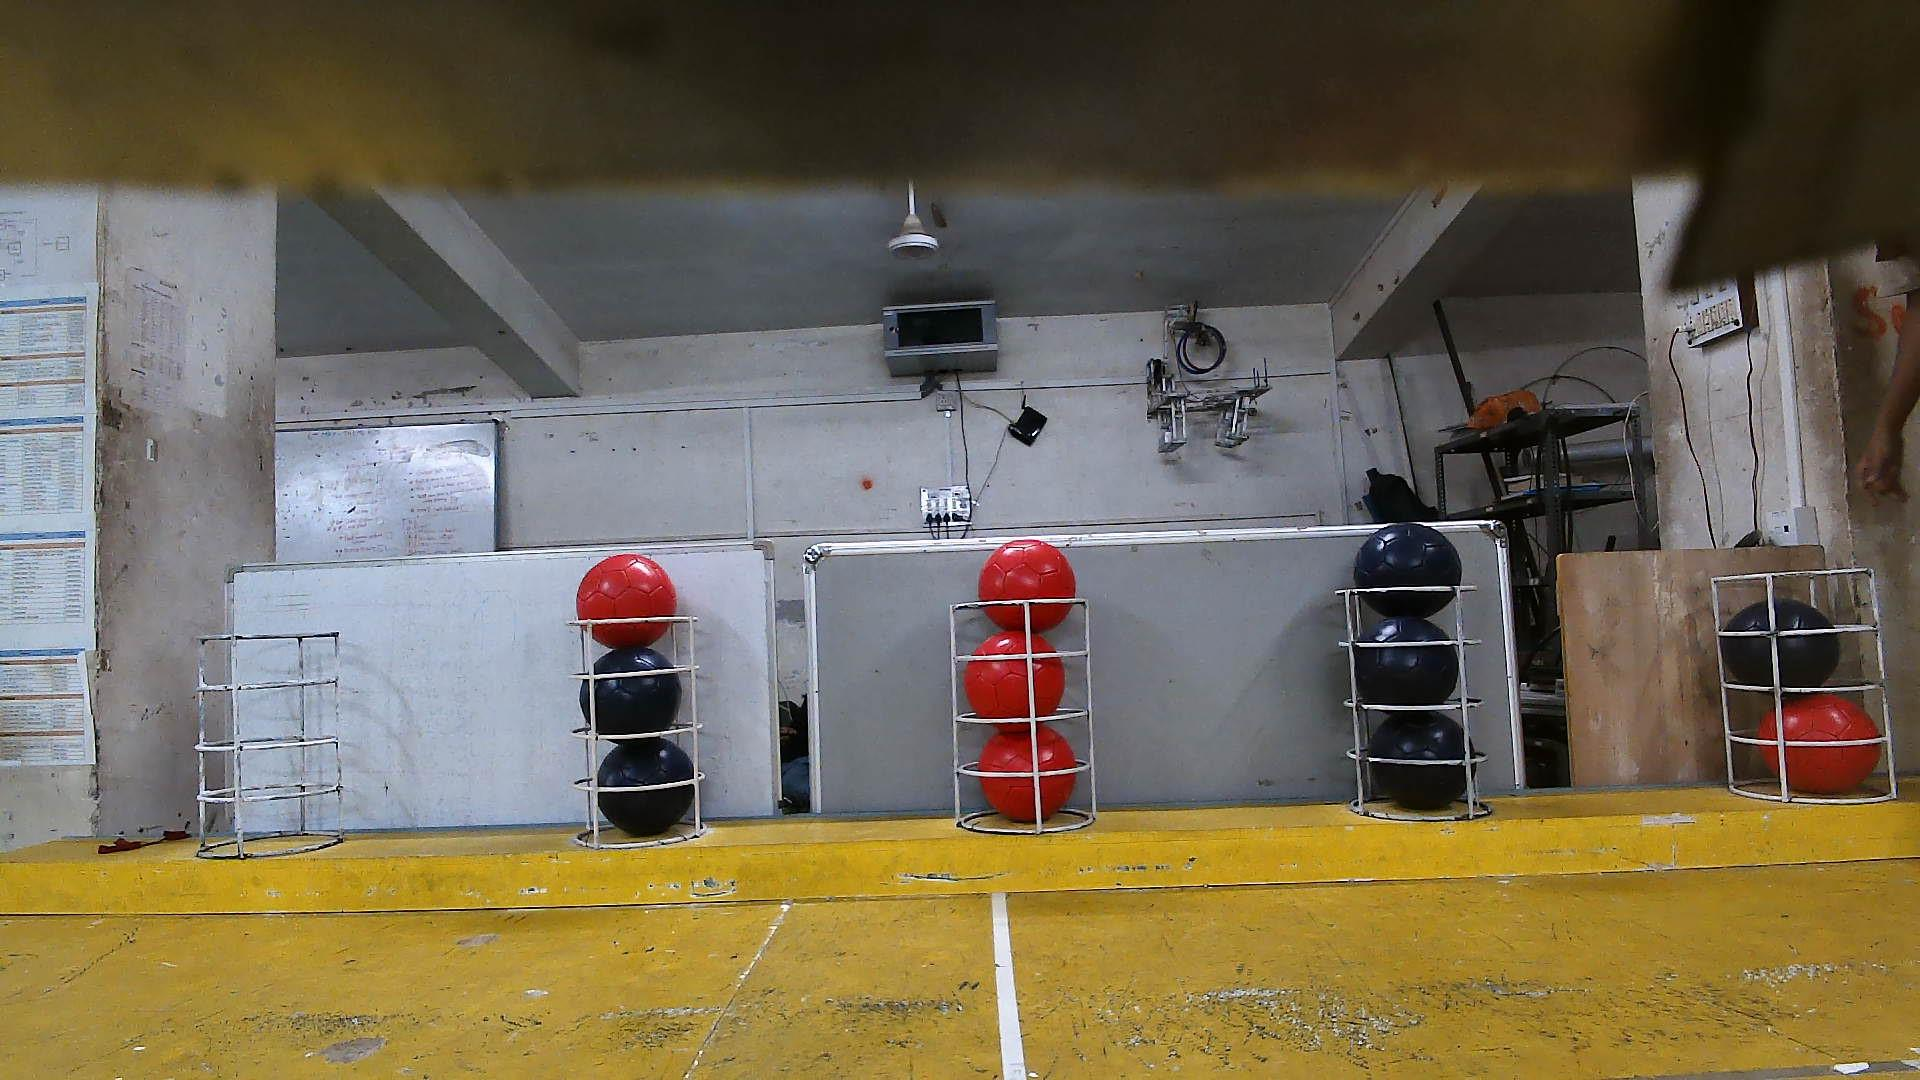dhoka: (1369, 712, 1485, 810), (1721, 600, 1841, 690), (1354, 521, 1462, 618), (596, 738, 694, 836), (1354, 615, 1458, 705), (582, 645, 683, 735)
laale: (1755, 694, 1883, 793), (578, 555, 679, 649), (978, 728, 1076, 822), (964, 630, 1065, 720), (978, 541, 1076, 630)
